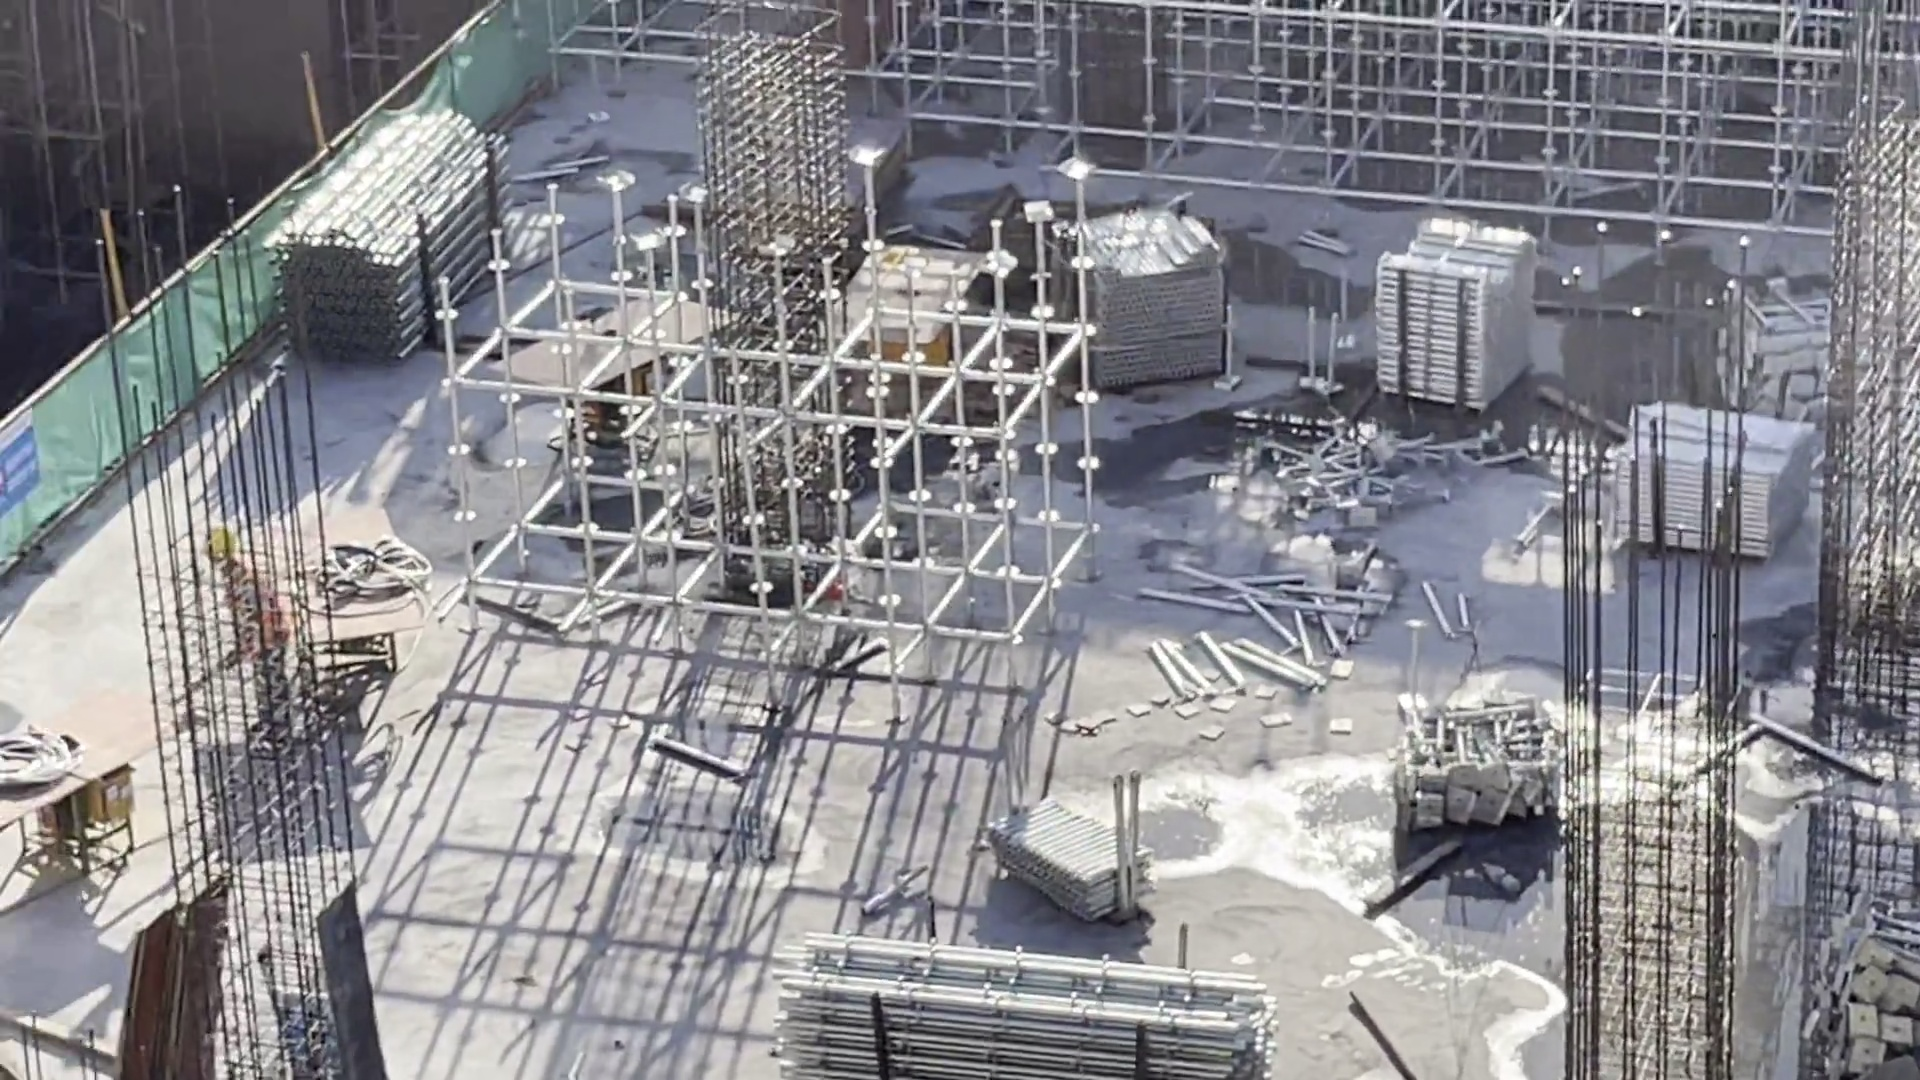cutter: (469, 285, 729, 454), (255, 494, 421, 701), (1, 678, 152, 886), (803, 230, 973, 385)
helmet: (200, 530, 240, 569)
person: (196, 531, 303, 776)
scaffold: (772, 923, 1225, 1080), (291, 103, 523, 354), (1604, 394, 1814, 574), (1047, 193, 1225, 405), (1367, 213, 1538, 417), (1380, 675, 1573, 823), (1714, 271, 1862, 426), (1005, 783, 1154, 927), (1275, 428, 1399, 524)
slogan: (1, 393, 52, 496)
vest: (215, 565, 294, 664)
